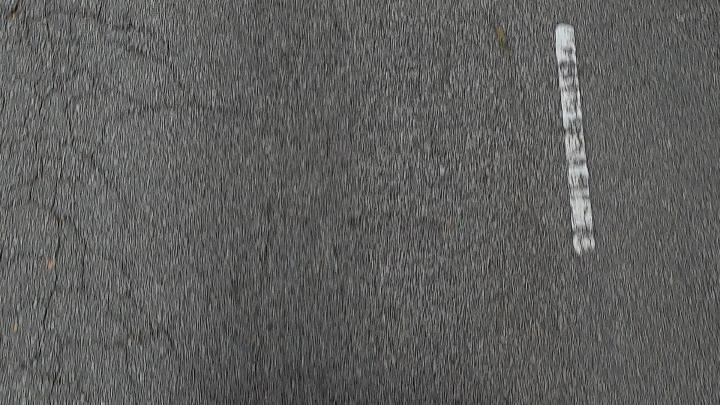Crack: (0, 0, 198, 349), (41, 65, 138, 227), (97, 246, 173, 346), (122, 37, 198, 106), (53, 206, 91, 292), (31, 238, 61, 339), (71, 0, 145, 37), (127, 94, 178, 117), (4, 0, 35, 35)
Lane: (544, 18, 602, 262), (555, 24, 594, 254)
